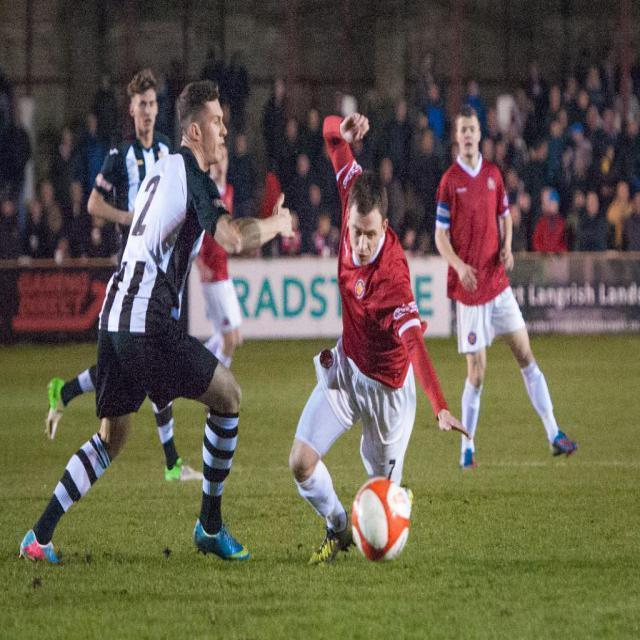Football: (348, 473, 411, 566)
